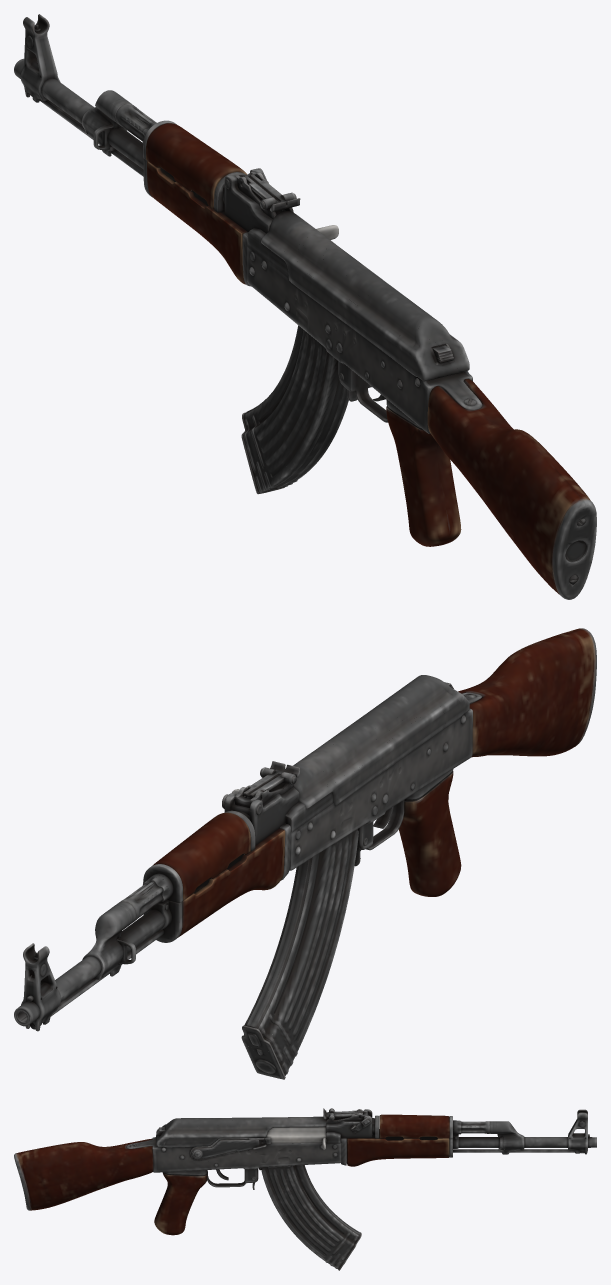
3 views of the same model, one above another, from view 1: azimuth 30°, elevation 25°; view 2: azimuth 150°, elevation 25°; view 3: azimuth 270°, elevation 25° (orthographic). The views are drawn at different scales.
Visible parts, largest first — view 1: AK_0; view 2: AK_0; view 3: AK_0.
Part boxes in pixels (left/top/right/bottom): AK_0: left=14, top=14, right=596, bottom=599; AK_0: left=14, top=628, right=596, bottom=1079; AK_0: left=14, top=1108, right=596, bottom=1270.
Bounding box in the file's own units: 0.7046 × 2.6 × 8.79.
1 material, 1 textured.
